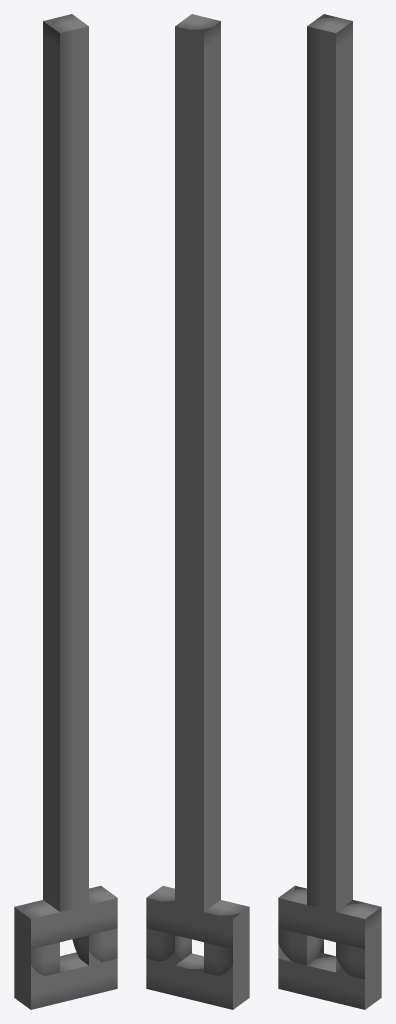
File: zawieszka_latarnia_długa.dae
The picture shows the model from 3 angles, left to right: view 1: azimuth 30°, elevation 25°; view 2: azimuth 150°, elevation 25°; view 3: azimuth 330°, elevation 25°; orthographic projection.
Parts seen in each view (by area): view 1: Content; view 2: Content; view 3: Content.
Part boxes in pixels (box(x1,y1,x2,y2)): Content: box(14, 14, 117, 1009); Content: box(146, 14, 249, 1009); Content: box(278, 14, 381, 1009).
Size of the model in its own units: 3 by 32 by 1.
Materials: 1 (1 with a texture image).
